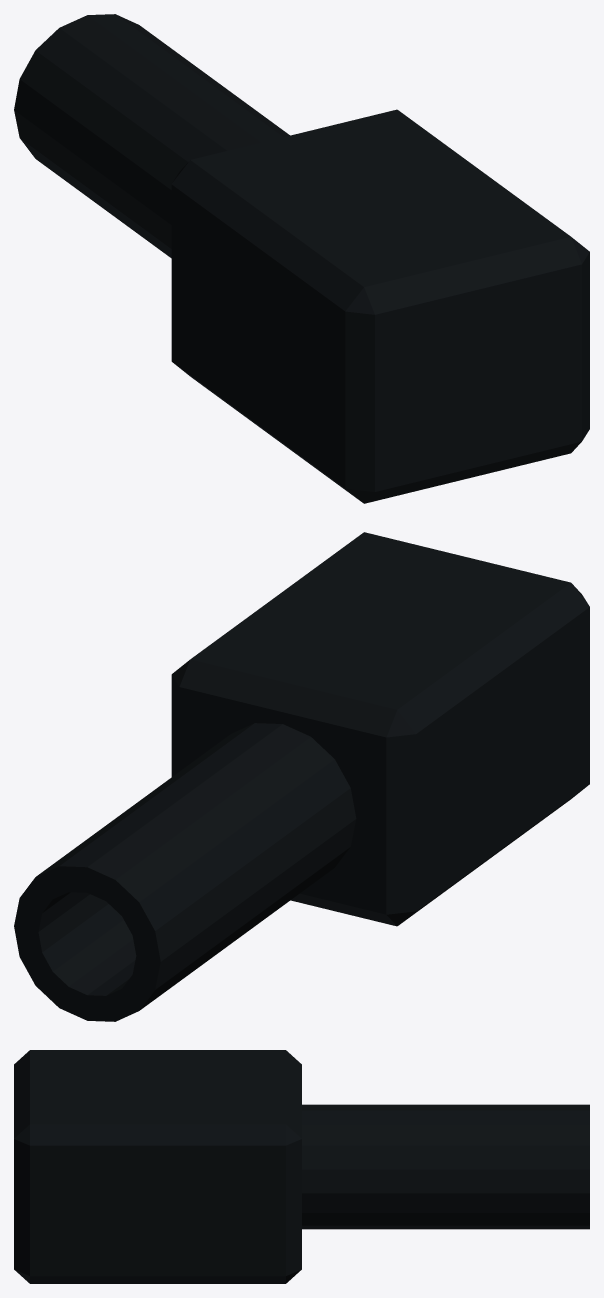
File: Grenade40__Pitch.obj
The picture shows the model from 3 angles, top to bottom: view 1: azimuth 30°, elevation 25°; view 2: azimuth 150°, elevation 25°; view 3: azimuth 270°, elevation 25°; orthographic projection. The views are drawn at different scales.
Visible parts, largest first — view 1: Grenade_receiver, Short_large-bore_barrel; view 2: Grenade_receiver, Short_large-bore_barrel; view 3: Grenade_receiver, Short_large-bore_barrel.
Boxes of the visible parts, left/top/right/bottom form: Grenade_receiver: left=171, top=109, right=589, bottom=503; Short_large-bore_barrel: left=14, top=14, right=289, bottom=258; Grenade_receiver: left=171, top=532, right=589, bottom=926; Short_large-bore_barrel: left=14, top=723, right=356, bottom=1021; Grenade_receiver: left=14, top=1050, right=301, bottom=1283; Short_large-bore_barrel: left=302, top=1104, right=589, bottom=1229.
Bounding box in the file's own units: 0.26 × 0.22 × 0.72.
